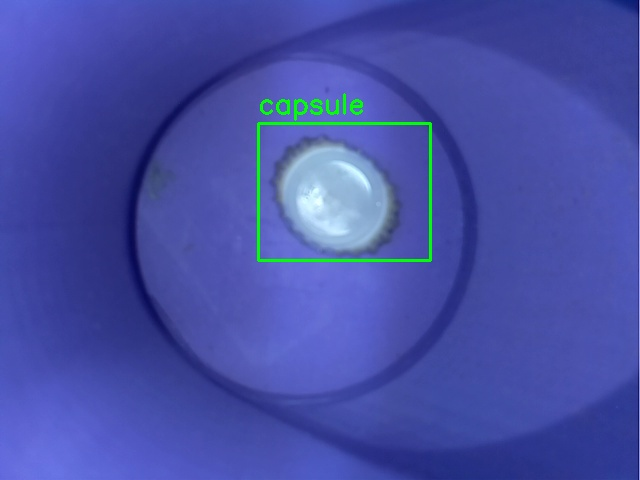capsule: (258, 123, 430, 260)
